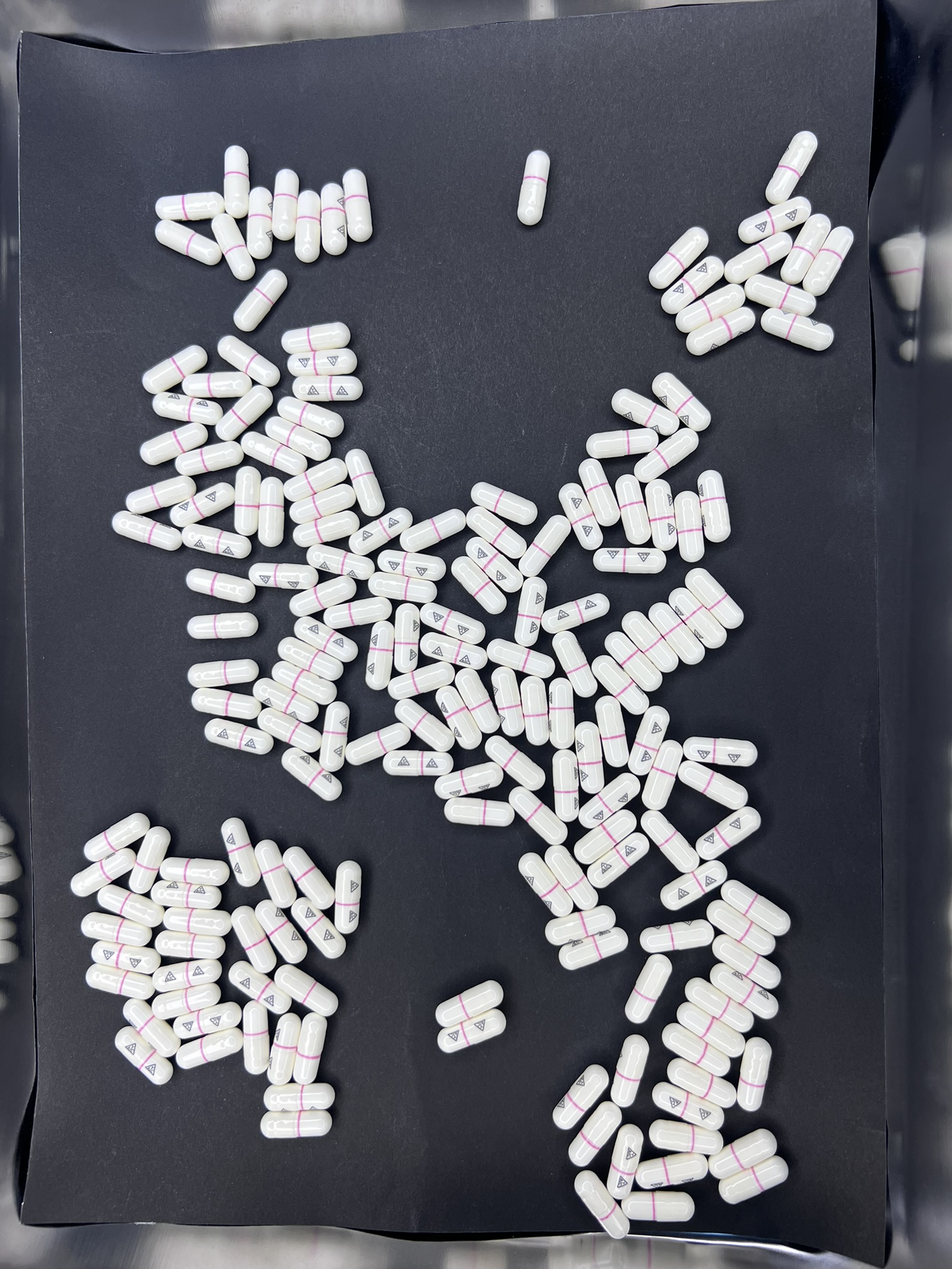Capsule: (705, 898, 780, 956), (664, 585, 728, 652), (719, 878, 791, 936), (780, 209, 832, 288), (765, 130, 819, 205), (647, 226, 710, 290), (684, 565, 744, 632), (708, 963, 777, 1021), (801, 225, 855, 299), (713, 934, 782, 991), (678, 1002, 745, 1059), (686, 977, 754, 1033), (660, 1023, 733, 1075), (584, 832, 649, 890), (122, 997, 183, 1058), (602, 631, 663, 692), (288, 896, 346, 960), (555, 1066, 609, 1134), (114, 1024, 174, 1085), (662, 255, 724, 314), (722, 233, 791, 286), (574, 809, 639, 865), (650, 1083, 727, 1130), (568, 1101, 622, 1168), (739, 195, 811, 245), (642, 811, 699, 874), (620, 611, 675, 675), (254, 900, 306, 967), (719, 1156, 790, 1205), (625, 954, 672, 1028), (579, 773, 641, 829), (70, 848, 138, 899), (280, 747, 343, 802), (544, 846, 598, 910), (679, 760, 748, 810), (666, 1058, 735, 1108), (661, 859, 727, 911), (654, 374, 712, 433), (509, 790, 566, 850), (274, 964, 337, 1018), (282, 846, 336, 909), (234, 271, 288, 334), (710, 1130, 778, 1180), (676, 283, 744, 333), (217, 335, 281, 388), (654, 602, 707, 666), (613, 388, 682, 437), (435, 980, 504, 1029), (696, 807, 761, 859), (485, 734, 545, 790), (635, 429, 697, 483), (84, 811, 152, 860), (574, 1171, 625, 1236), (141, 345, 207, 395), (394, 698, 455, 752), (684, 308, 754, 355), (293, 616, 361, 664), (451, 557, 507, 615), (154, 219, 221, 267), (760, 308, 833, 352), (231, 905, 278, 973), (252, 677, 320, 724), (217, 386, 274, 442), (243, 434, 317, 477), (554, 634, 597, 707), (590, 651, 645, 708), (470, 481, 540, 525), (465, 506, 525, 557), (287, 482, 358, 525), (519, 853, 569, 914), (438, 1008, 504, 1054), (546, 904, 616, 947), (559, 927, 629, 970), (744, 273, 814, 316), (168, 1001, 245, 1040), (519, 518, 569, 578), (353, 510, 421, 554), (210, 213, 254, 281), (401, 509, 468, 553), (611, 1034, 650, 1109), (176, 1028, 245, 1070), (649, 1119, 723, 1158), (265, 416, 332, 459), (578, 458, 621, 525), (290, 574, 360, 615), (138, 424, 208, 465), (455, 668, 499, 733), (736, 1037, 773, 1114), (93, 885, 160, 927), (643, 741, 683, 810), (273, 661, 337, 704), (254, 841, 297, 905), (636, 1152, 710, 1189), (608, 1123, 645, 1197), (129, 826, 171, 891), (345, 449, 386, 515), (221, 821, 262, 887), (387, 660, 458, 698), (127, 476, 196, 515), (278, 637, 342, 679), (226, 963, 282, 1011), (277, 396, 344, 436), (344, 725, 409, 766), (640, 918, 716, 953), (169, 485, 232, 527), (420, 605, 486, 645), (111, 510, 177, 550), (305, 544, 376, 581), (284, 458, 351, 497), (544, 594, 606, 636), (322, 597, 394, 633), (517, 150, 551, 226), (559, 483, 602, 543), (435, 685, 477, 746), (623, 1189, 696, 1224), (292, 511, 361, 548), (257, 709, 319, 750), (697, 470, 732, 542), (293, 1013, 328, 1085), (152, 984, 222, 1020), (437, 763, 503, 801), (472, 547, 524, 595), (87, 964, 158, 999), (185, 569, 256, 604), (85, 913, 155, 948), (267, 1014, 302, 1084), (155, 959, 226, 993), (174, 441, 241, 477), (615, 474, 651, 541), (632, 710, 670, 773), (645, 480, 679, 550), (182, 523, 248, 559), (419, 632, 481, 670), (281, 321, 352, 354), (587, 427, 658, 460), (515, 578, 549, 646), (90, 940, 158, 974), (371, 571, 441, 604), (192, 688, 262, 721), (153, 392, 223, 425), (204, 720, 270, 755), (488, 641, 552, 677), (343, 168, 373, 244), (595, 697, 629, 763), (186, 611, 258, 642), (260, 1110, 334, 1140), (263, 1082, 334, 1113), (685, 737, 756, 768), (241, 1001, 270, 1076), (320, 703, 351, 773), (155, 930, 227, 960), (155, 192, 226, 222), (377, 549, 443, 581), (187, 659, 259, 688), (152, 880, 224, 909), (492, 669, 524, 734), (162, 907, 231, 937), (365, 620, 395, 689), (674, 490, 704, 559), (334, 861, 363, 932), (158, 857, 231, 885), (575, 722, 605, 790), (273, 169, 300, 242), (295, 190, 322, 263), (288, 350, 358, 378), (249, 562, 314, 592), (445, 799, 512, 828), (521, 675, 550, 742), (552, 749, 580, 818), (595, 547, 663, 575), (224, 147, 250, 220), (321, 183, 347, 256), (395, 604, 422, 674), (234, 465, 261, 534), (294, 377, 365, 403), (258, 479, 285, 547), (549, 678, 575, 747), (248, 187, 273, 258), (183, 373, 251, 399), (383, 750, 447, 775)
